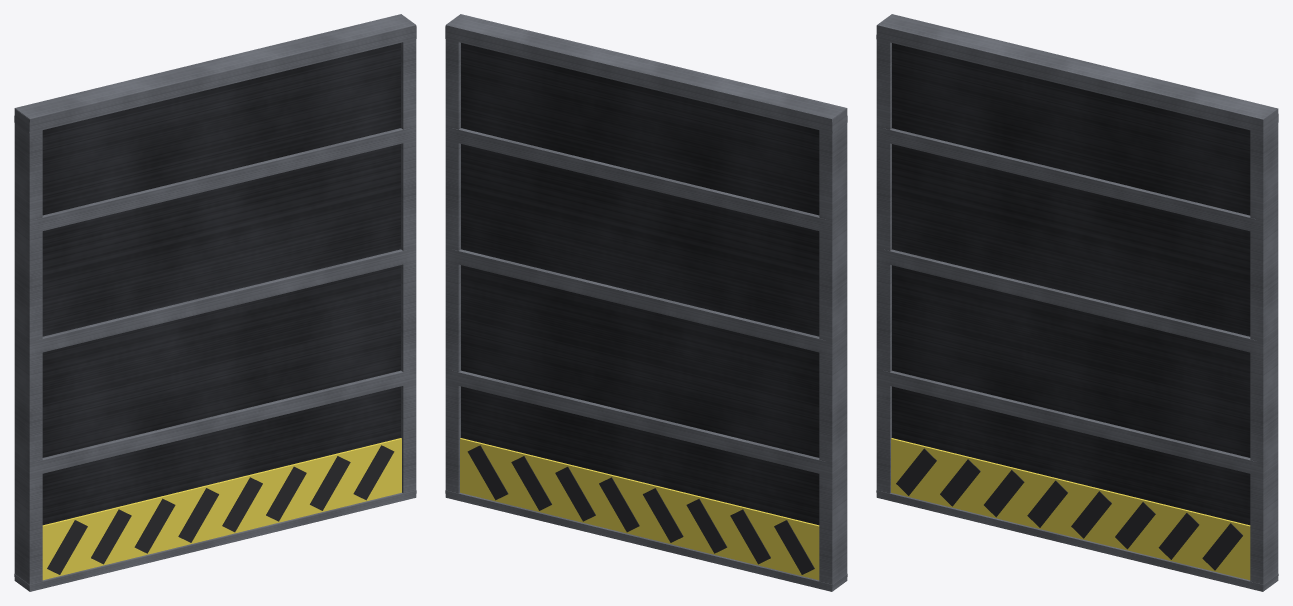
Rendered from BridgeDoor.fbx.
3 views of the same model, side by side, from view 1: azimuth 30°, elevation 25°; view 2: azimuth 150°, elevation 25°; view 3: azimuth 330°, elevation 25° (orthographic).
Visible parts, largest first — view 1: BridgeDoor; view 2: BridgeDoor; view 3: BridgeDoor.
Part boxes in pixels (bbox=[...]): BridgeDoor: bbox=[14, 14, 416, 591]; BridgeDoor: bbox=[445, 14, 847, 591]; BridgeDoor: bbox=[876, 14, 1278, 591].
Size of the model in its own units: 3.01 by 3.51 by 0.204.
4 materials, 2 textured.
